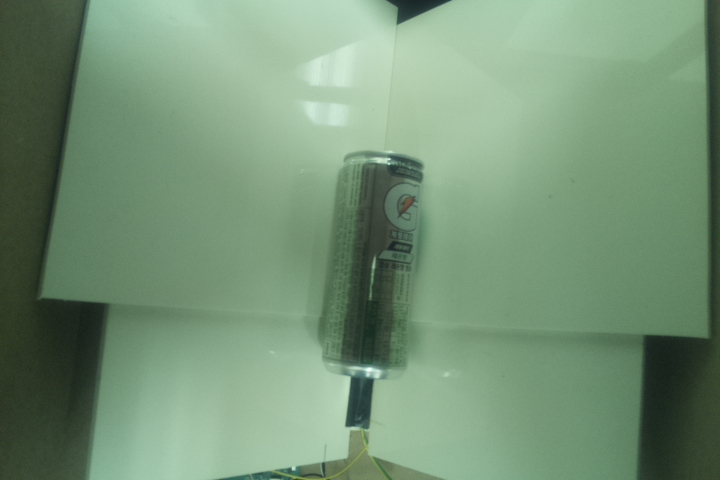can: (319, 146, 428, 383)
